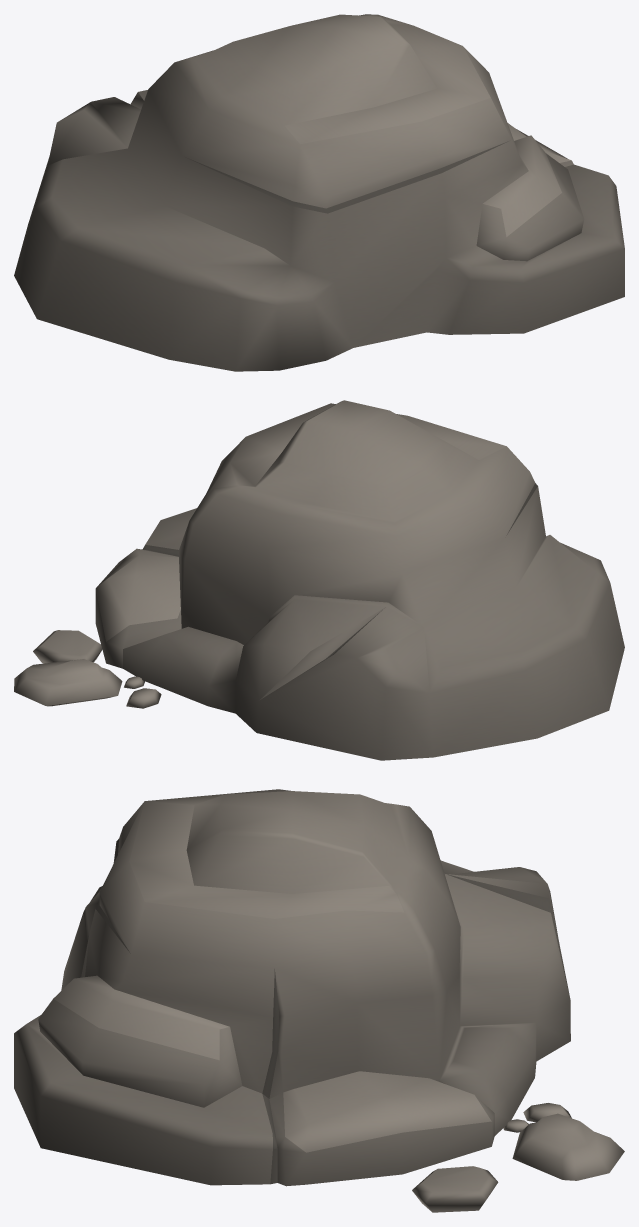
Rendered from Rock_01.fbx.
3 views of the same model, one above another, from view 1: azimuth 30°, elevation 25°; view 2: azimuth 150°, elevation 25°; view 3: azimuth 270°, elevation 25° (orthographic). The views are drawn at different scales.
Visible parts, largest first — view 1: rock; view 2: rock; view 3: rock.
Boxes of the visible parts, x1=… form: rock: x1=14, y1=14, x2=624, y2=371; rock: x1=14, y1=400, x2=624, y2=760; rock: x1=14, y1=789, x2=624, y2=1212.
Size of the model in its own units: 24.41 by 11 by 21.73.
1 material, 1 textured.
